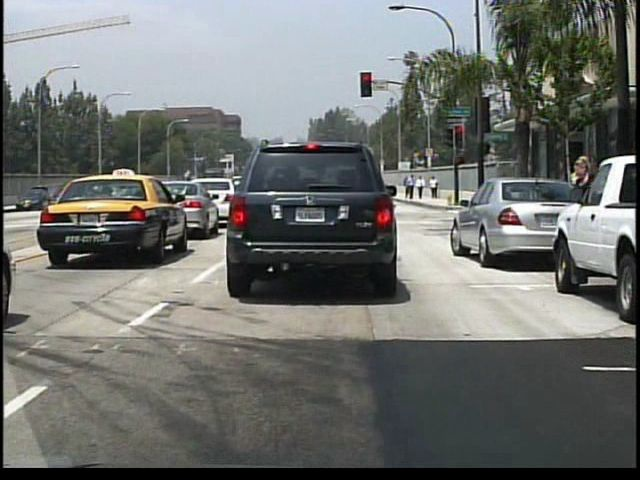person: (568, 153, 602, 268), (565, 163, 590, 228), (429, 175, 440, 201), (406, 174, 416, 200), (416, 175, 425, 201), (404, 176, 412, 200)
